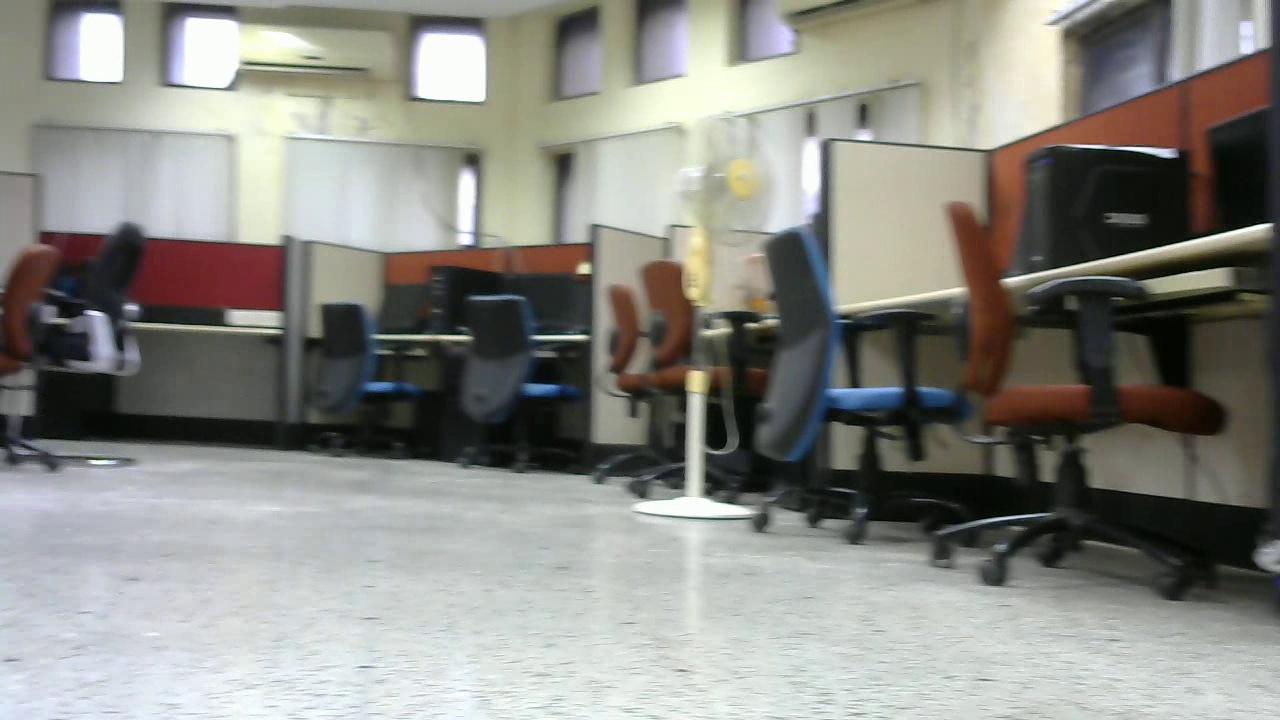chair: (925, 203, 1234, 598), (736, 226, 970, 543), (581, 262, 764, 504), (3, 210, 148, 469), (444, 285, 581, 471), (304, 298, 439, 457)
